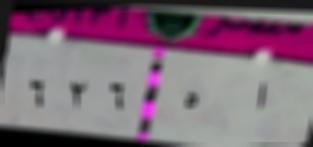2: (63, 77, 90, 117)
6: (105, 75, 129, 119), (26, 74, 49, 112)
alif: (249, 77, 273, 117)
haa: (178, 84, 202, 120)
